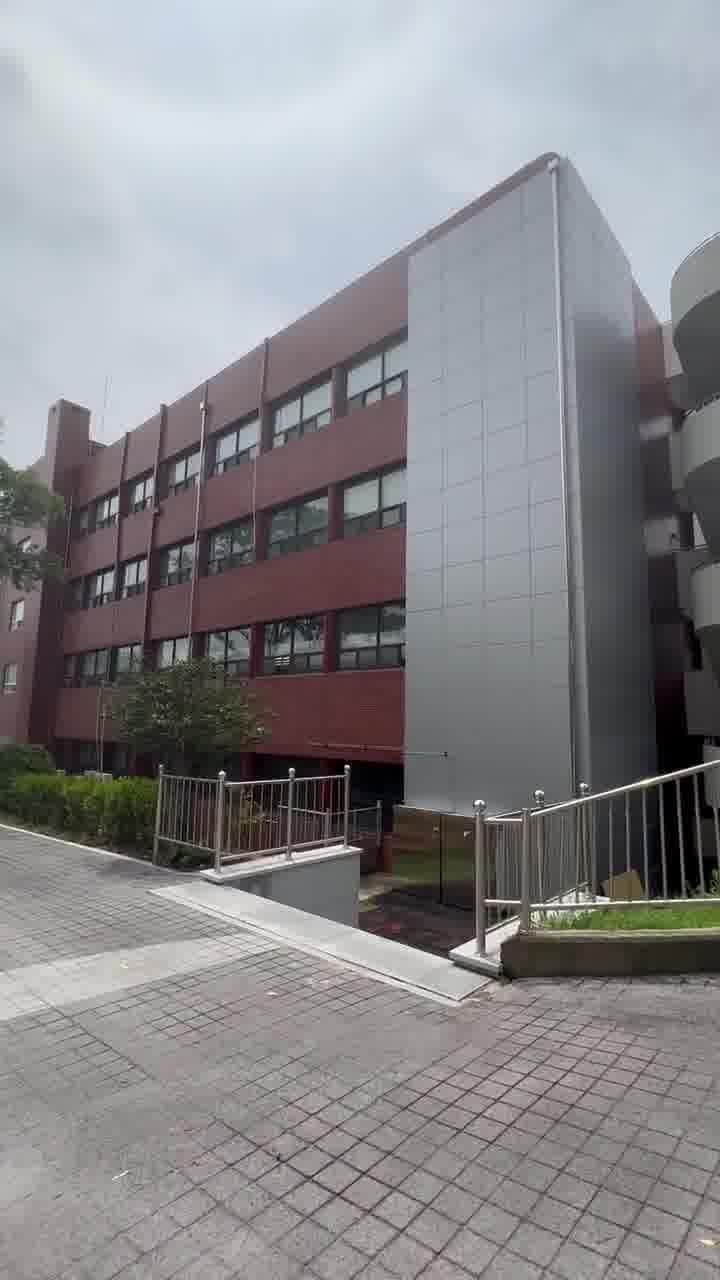building: (36, 202, 652, 702)
